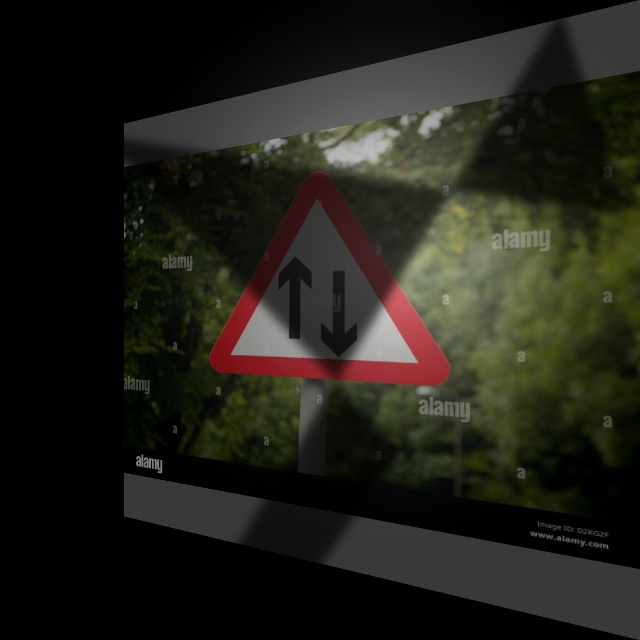Mandatory_Two_Way_Traffic: (208, 155, 450, 386)
